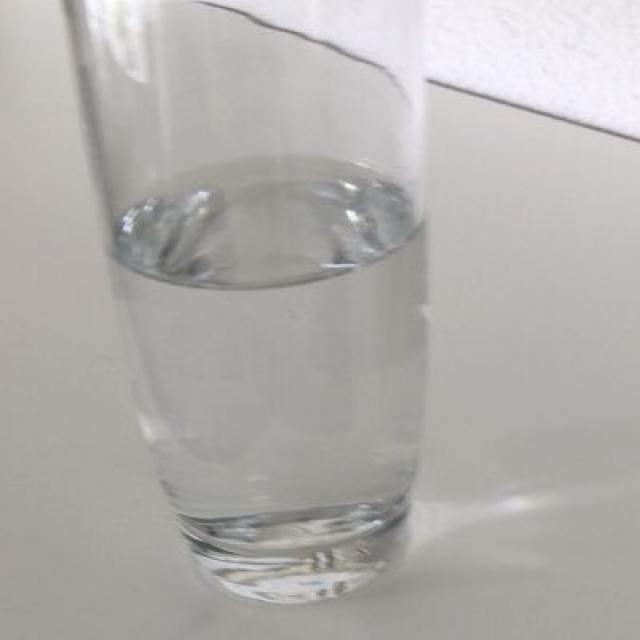water: (106, 158, 422, 556)
